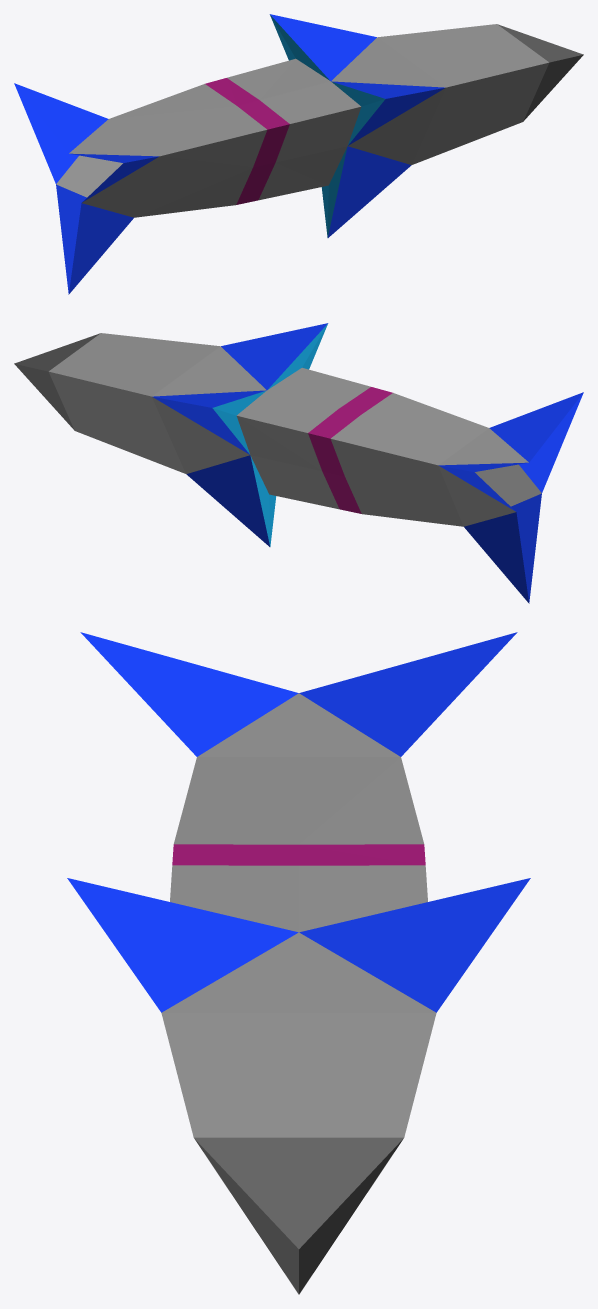
Rendered from missile01.FBX.
3 renders of one model, top to bottom at view 1: azimuth 30°, elevation 25°; view 2: azimuth 150°, elevation 25°; view 3: azimuth 270°, elevation 25°, orthographic. The views are drawn at different scales.
Visible parts, largest first — view 1: Cylinder001; view 2: Cylinder001; view 3: Cylinder001.
Part boxes in pixels (x1=…): Cylinder001: x1=14, y1=14, x2=583, y2=294; Cylinder001: x1=14, y1=323, x2=583, y2=603; Cylinder001: x1=67, y1=632, x2=530, y2=1294.
Bounding box in the file's own units: 27.04 × 9.13 × 10.55.
